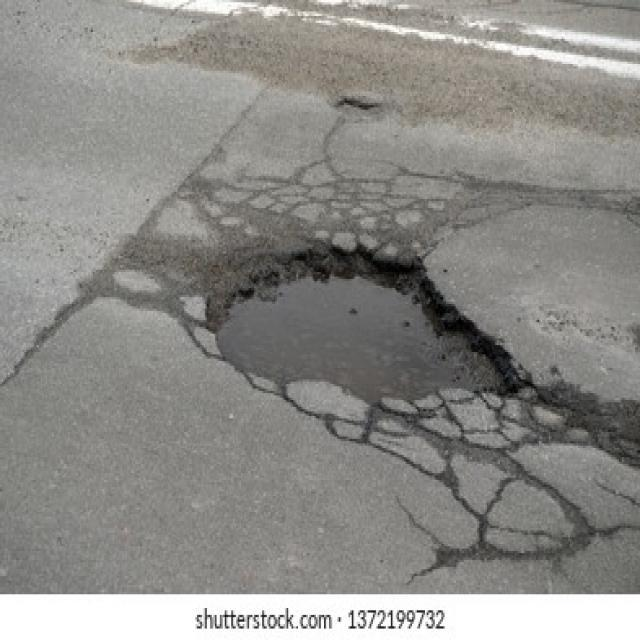Pothole: (208, 247, 520, 407)
